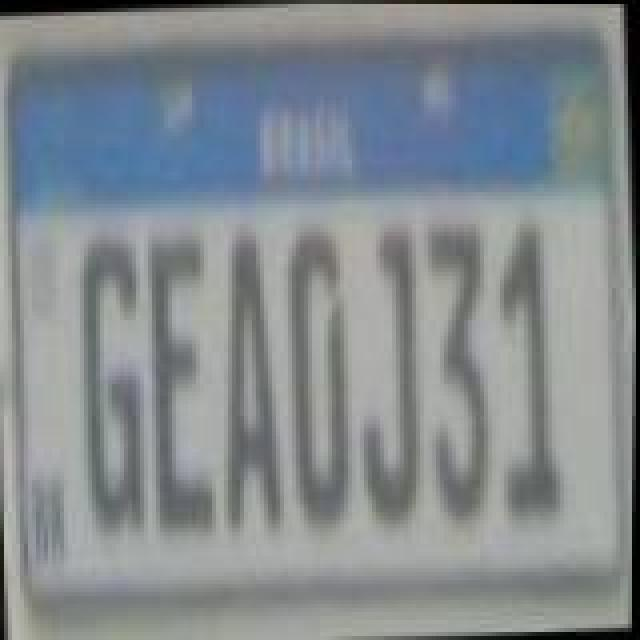1: (488, 214, 568, 522)
3: (424, 216, 496, 520)
A: (214, 232, 294, 544)
D: (280, 224, 360, 532)
E: (142, 230, 222, 538)
G: (78, 226, 158, 534)
J: (346, 228, 430, 524)
